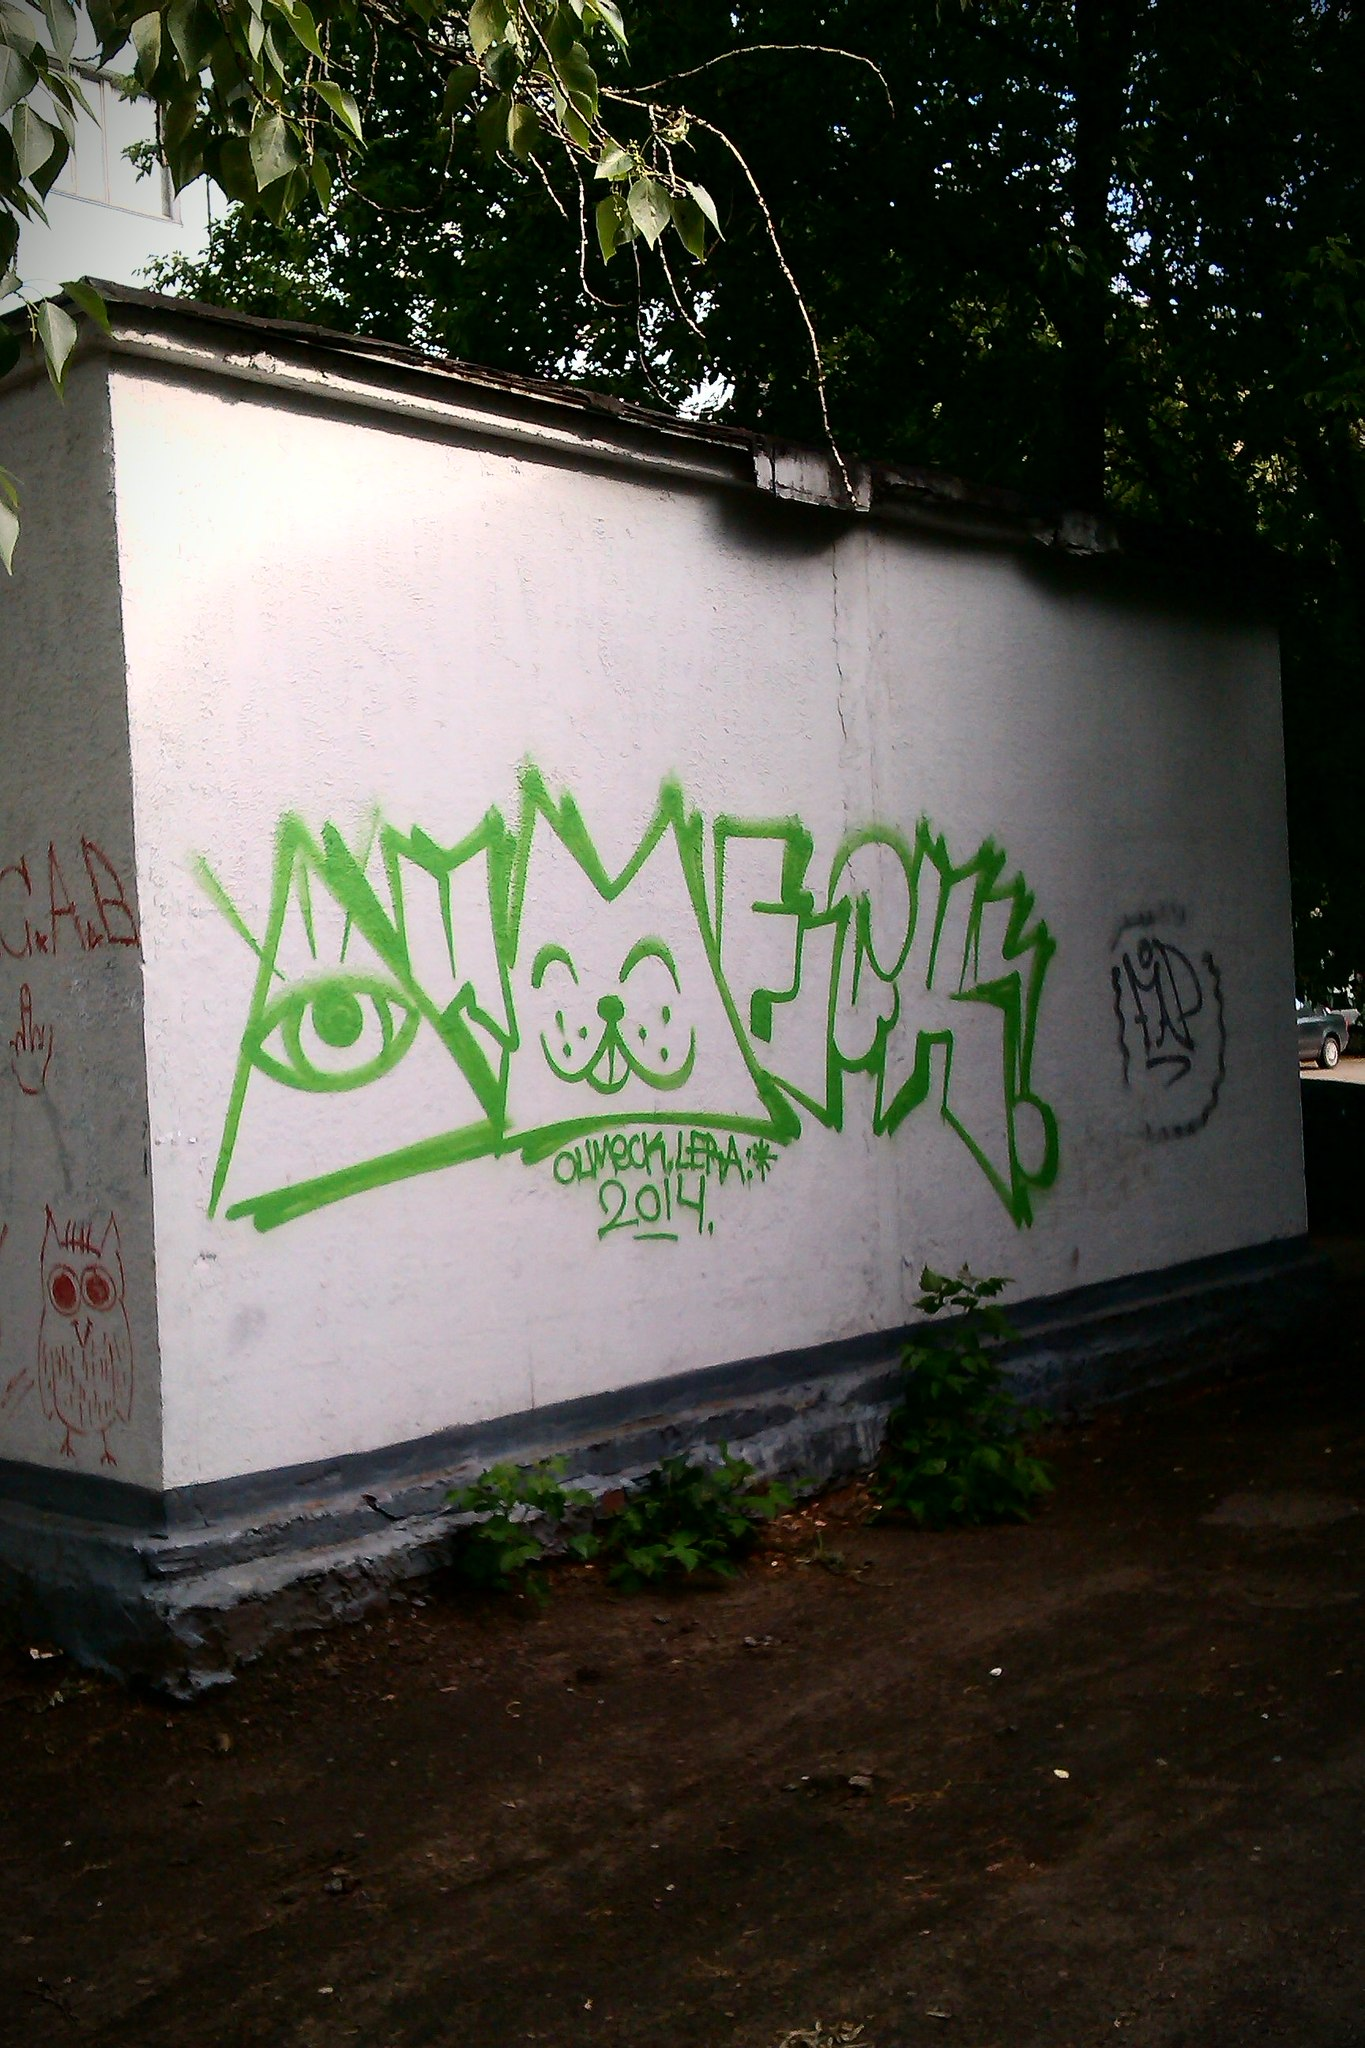graffity: (190, 743, 1072, 1316), (2, 795, 151, 1482), (1098, 900, 1245, 1154)
